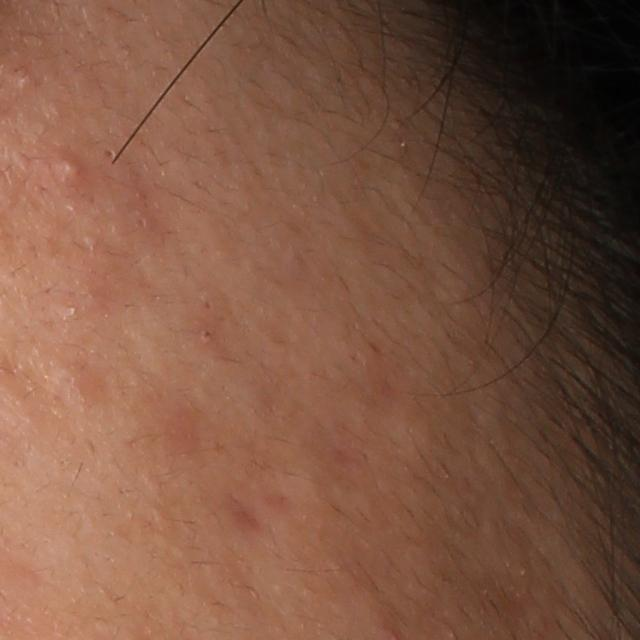papule: (57, 154, 86, 184)
